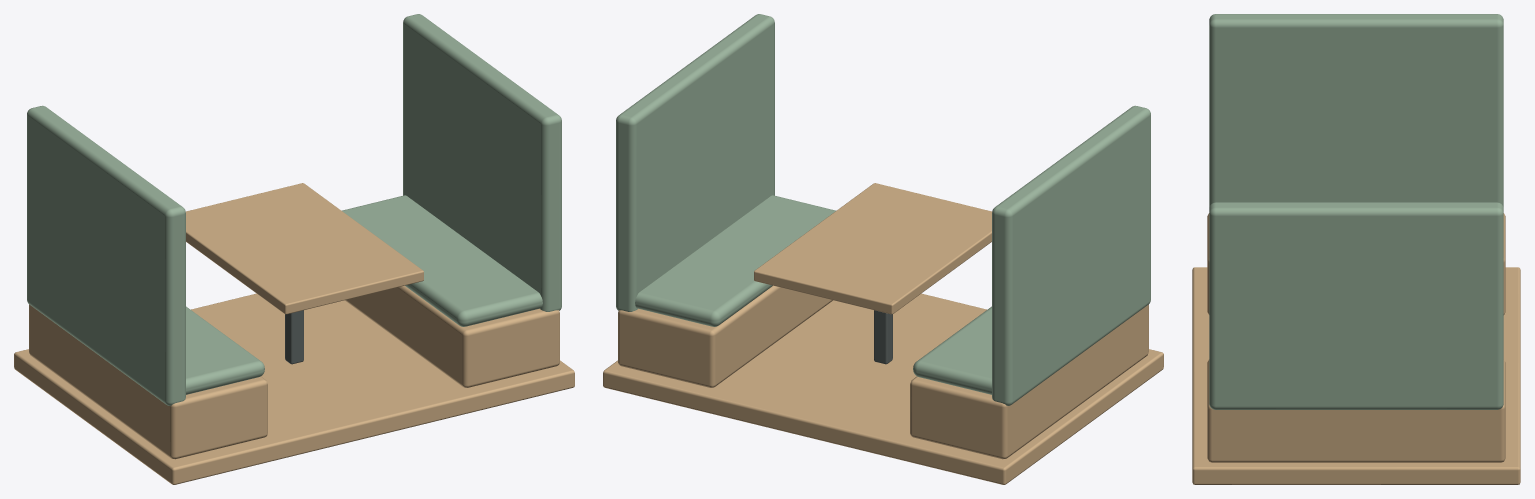
Rendered from public-library-and-reading-garden-public-library-and-r-17fab026__30924.glb.
3 views of the same model, side by side, from view 1: azimuth 30°, elevation 25°; view 2: azimuth 150°, elevation 25°; view 3: azimuth 270°, elevation 25° (orthographic). The views are drawn at different scales.
Visible parts, largest first — view 1: public-library-and-reading-garden-group-study-booth; view 2: public-library-and-reading-garden-group-study-booth; view 3: public-library-and-reading-garden-group-study-booth.
Part boxes in pixels (bbox=[...]): public-library-and-reading-garden-group-study-booth: bbox=[14, 14, 574, 484]; public-library-and-reading-garden-group-study-booth: bbox=[603, 14, 1163, 484]; public-library-and-reading-garden-group-study-booth: bbox=[1192, 14, 1520, 484].
Size of the model in its own units: 2.4 by 1.52 by 1.65.
